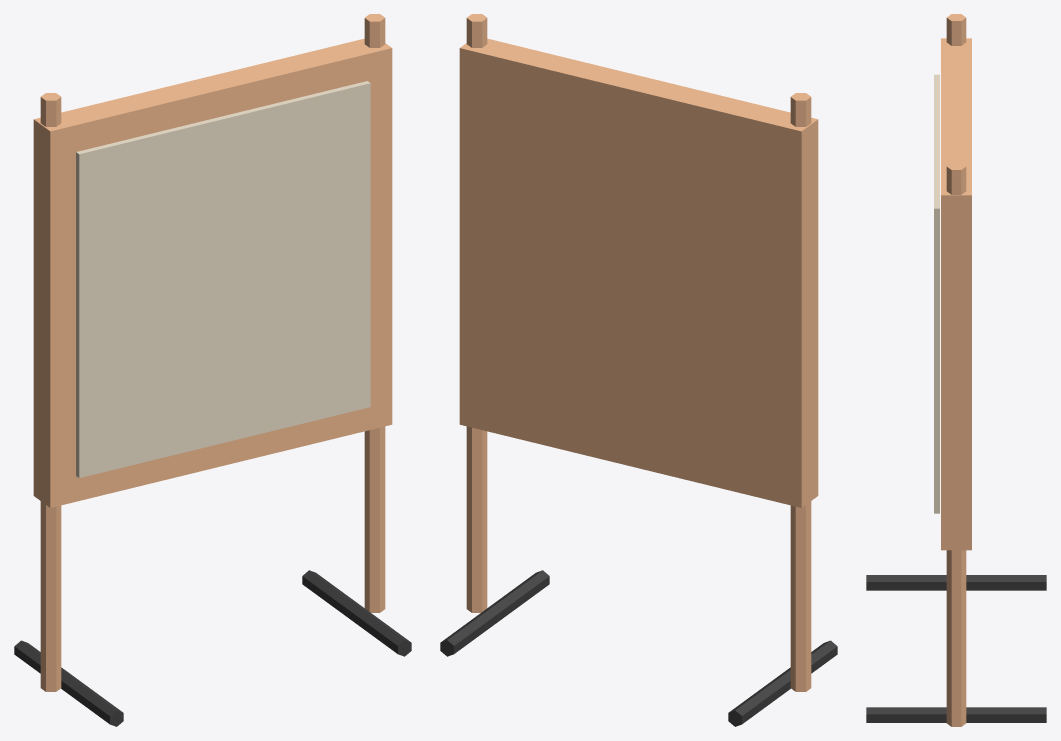
The picture shows the model from 3 angles, left to right: view 1: azimuth 30°, elevation 25°; view 2: azimuth 150°, elevation 25°; view 3: azimuth 270°, elevation 25°; orthographic projection. The views are drawn at different scales.
Visible parts, largest first — view 1: Art surface, Frame, Support, Support.001, Foot.001, Foot; view 2: Frame, Support, Support.001, Foot.001, Foot; view 3: Frame, Support.001, Art surface, Foot, Foot.001, Support.
Boxes of the visible parts, x1,y1,x2,y2 form: Art surface: (76, 81, 370, 478); Frame: (33, 38, 392, 507); Support: (40, 93, 61, 691); Support.001: (364, 14, 385, 612); Foot.001: (302, 570, 411, 656); Foot: (14, 640, 123, 726); Frame: (459, 38, 818, 507); Support: (790, 93, 811, 691); Support.001: (466, 14, 487, 612); Foot.001: (440, 570, 549, 656); Foot: (728, 640, 837, 726); Frame: (941, 38, 971, 550); Support.001: (946, 163, 966, 726); Art surface: (934, 74, 939, 513); Foot: (866, 575, 1046, 590); Foot.001: (866, 707, 1046, 722); Support: (946, 14, 966, 45).
Size of the model in its own units: 0.95 by 1.59 by 0.46.
Materials: 1 (1 with a texture image).
